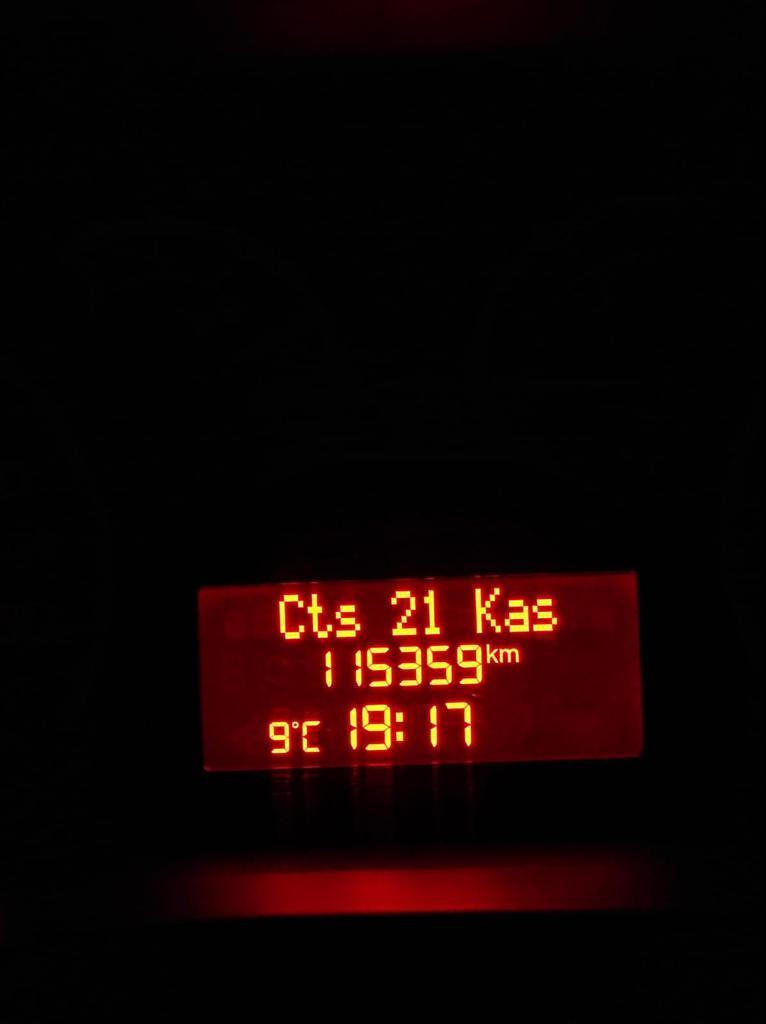1: (420, 588, 441, 635), (346, 706, 359, 751), (426, 703, 439, 747), (321, 647, 333, 689), (351, 648, 363, 687)
2: (388, 589, 418, 636)
3: (396, 644, 423, 687)
5: (425, 643, 454, 686), (364, 645, 393, 688)
7: (442, 699, 473, 748)
9: (362, 702, 392, 751), (455, 642, 483, 685), (266, 719, 291, 755)
X: (274, 591, 307, 642), (471, 584, 503, 634), (305, 591, 334, 641), (529, 596, 558, 633), (333, 601, 360, 639), (501, 597, 529, 633), (300, 719, 322, 753), (392, 710, 406, 743), (498, 647, 521, 663), (484, 642, 497, 664)
odometer: (189, 562, 650, 778)
